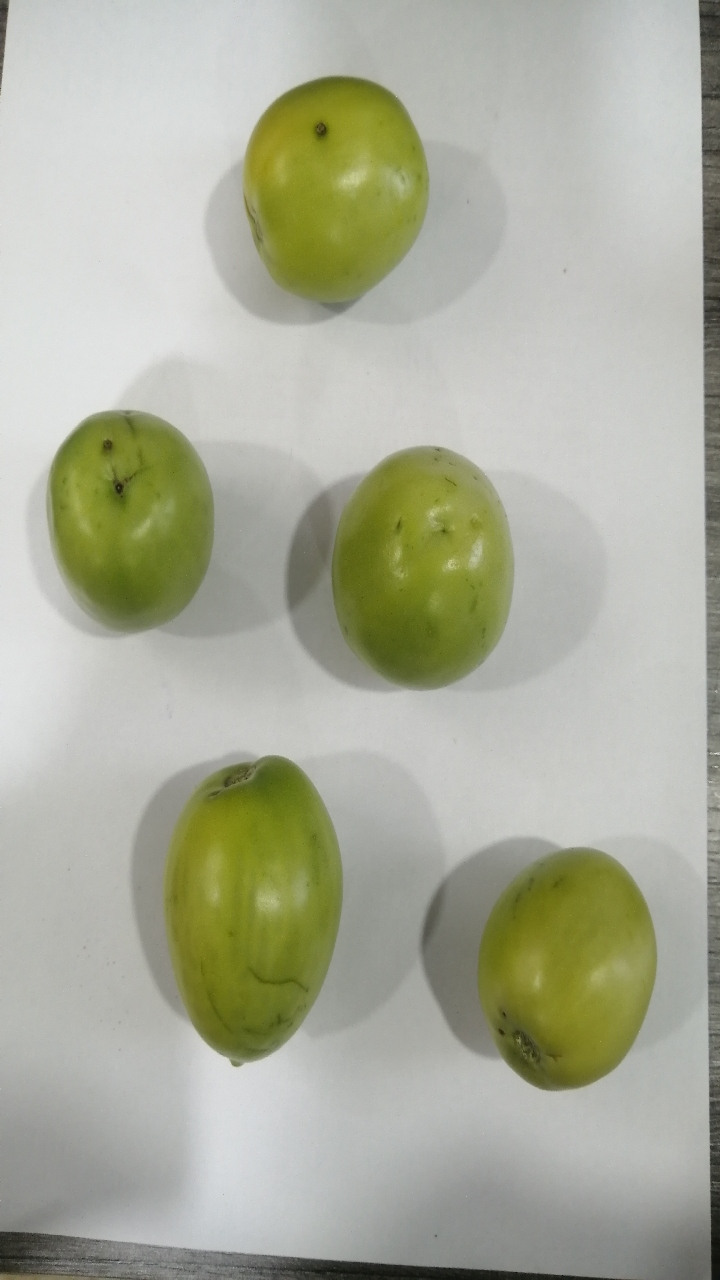tomateVerde: (134, 720, 348, 1071), (218, 45, 480, 328), (304, 417, 551, 694), (460, 803, 669, 1115), (38, 372, 234, 660)
